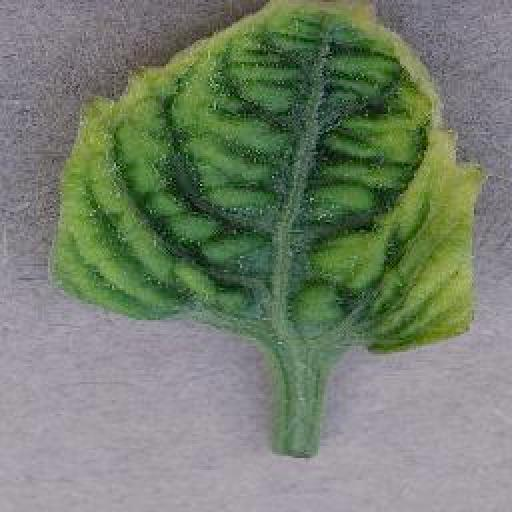disease_tomato: (48, 0, 486, 352)
